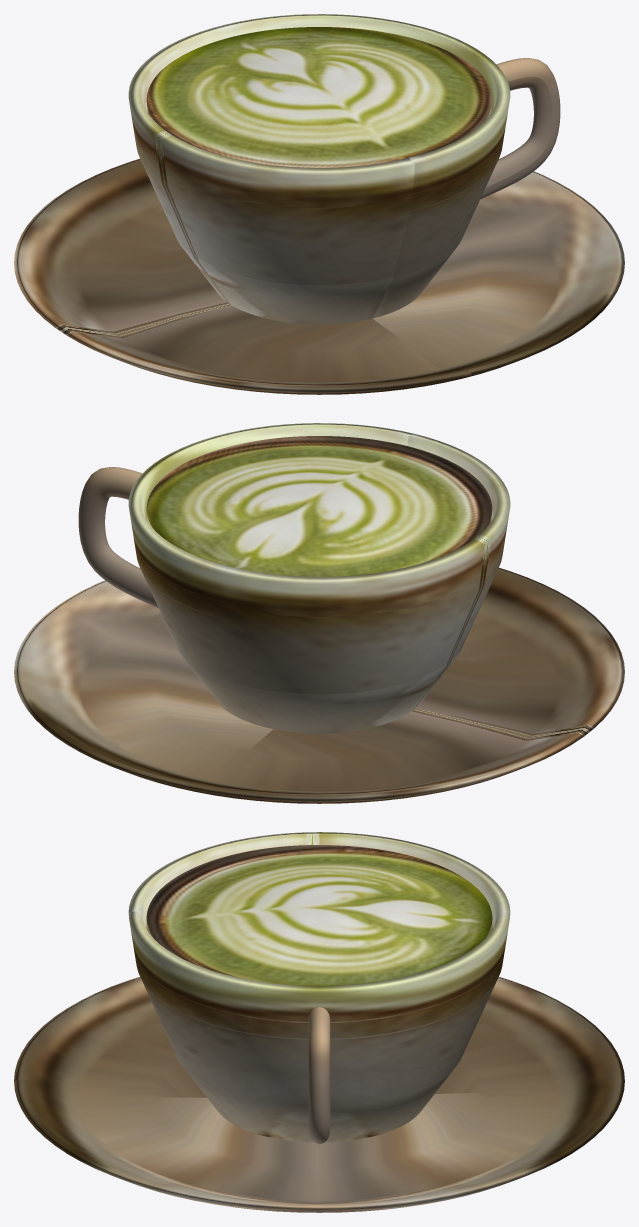
File: matcha-latte.glb
3 views of the same model, one above another, from view 1: azimuth 30°, elevation 25°; view 2: azimuth 150°, elevation 25°; view 3: azimuth 270°, elevation 25° (orthographic).
Visible parts, largest first — view 1: StonewareSaucer, CeramicCupBody, LatteArtMicrofoam, CeramicCupHandle; view 2: StonewareSaucer, CeramicCupBody, LatteArtMicrofoam, CeramicCupHandle; view 3: StonewareSaucer, CeramicCupBody, LatteArtMicrofoam, CeramicCupHandle.
Part boxes in pixels (bbox=[...]): StonewareSaucer: bbox=[14, 158, 624, 394]; CeramicCupBody: bbox=[128, 14, 510, 324]; LatteArtMicrofoam: bbox=[146, 27, 492, 167]; CeramicCupHandle: bbox=[480, 58, 560, 199]; StonewareSaucer: bbox=[14, 567, 624, 803]; CeramicCupBody: bbox=[128, 423, 510, 733]; LatteArtMicrofoam: bbox=[146, 436, 492, 576]; CeramicCupHandle: bbox=[78, 467, 158, 608]; StonewareSaucer: bbox=[14, 977, 624, 1212]; CeramicCupBody: bbox=[128, 832, 510, 1142]; LatteArtMicrofoam: bbox=[146, 845, 492, 985]; CeramicCupHandle: bbox=[308, 1007, 330, 1144].
Bounding box in the file's own units: 2.88 × 1.07 × 2.88.
Materials: 3 (3 with a texture image).
